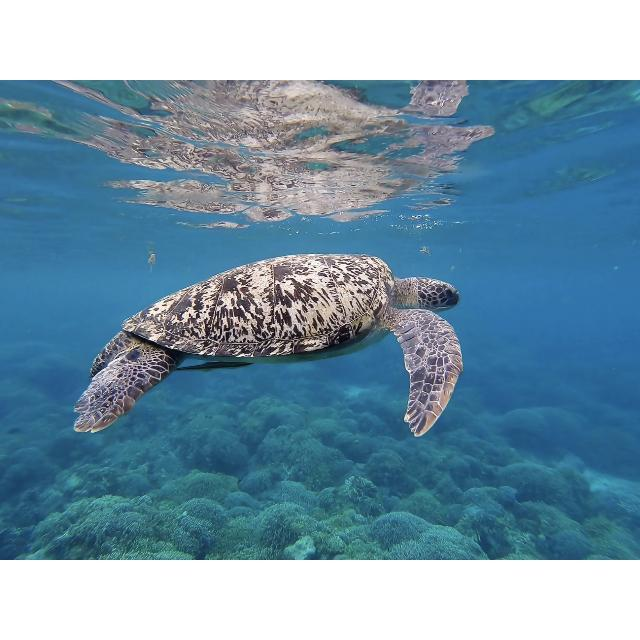turtle: (72, 252, 466, 436)
